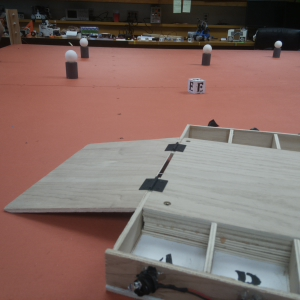blockE: (187, 76, 206, 95)
corner: (6, 6, 23, 48)
obstacle: (63, 50, 80, 82), (78, 39, 91, 60), (272, 40, 285, 60), (201, 44, 211, 66)
side: (102, 207, 296, 300), (179, 115, 300, 153)
slope: (5, 135, 182, 219)
